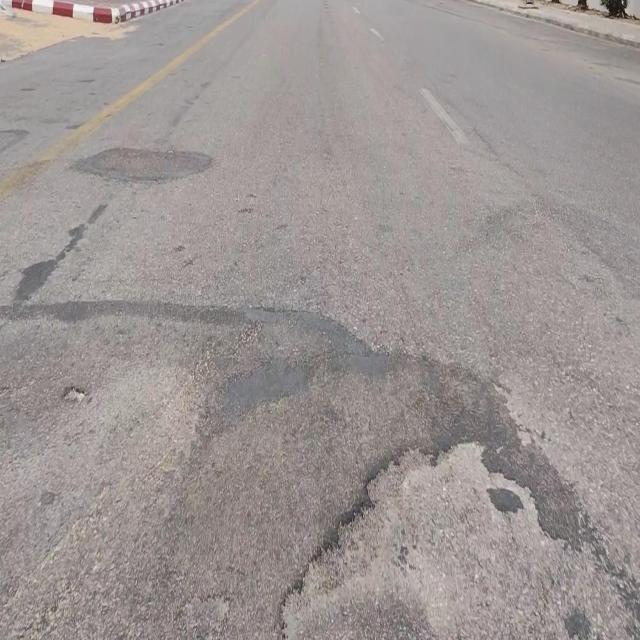Potholes: (275, 434, 639, 640)
